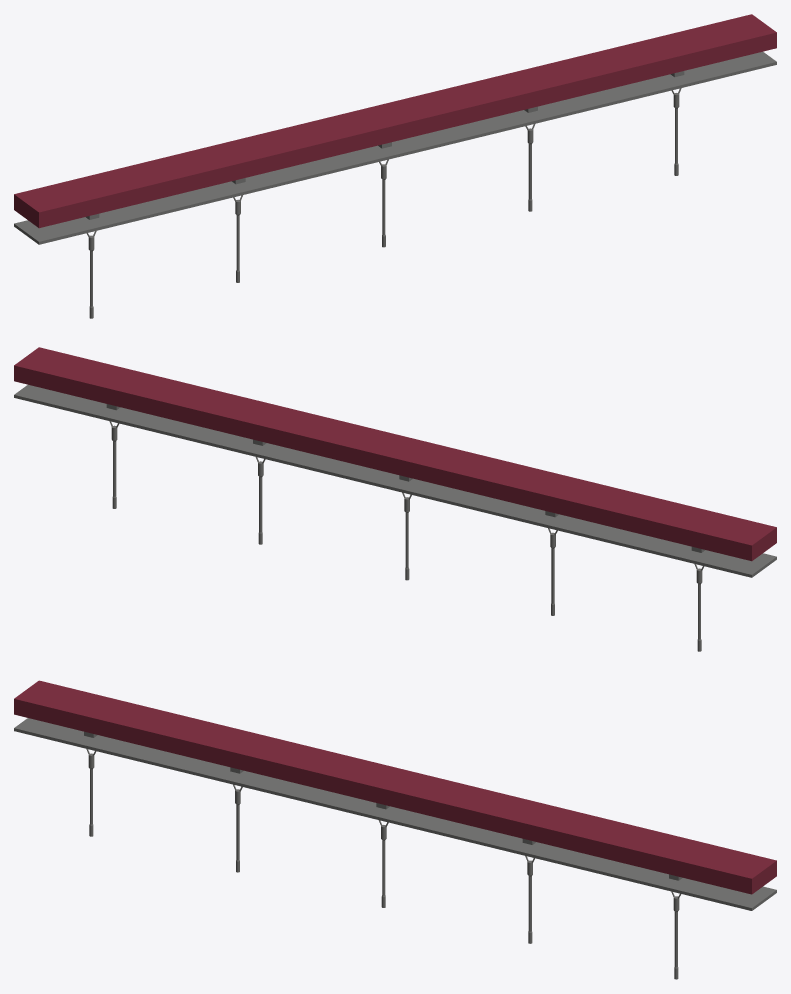
The model's file is 组装线_B1_机器13.fbx.
The picture shows the model from 3 angles, top to bottom: view 1: azimuth 30°, elevation 25°; view 2: azimuth 150°, elevation 25°; view 3: azimuth 330°, elevation 25°; orthographic projection.
Visible parts, largest first — view 1: Box001; view 2: Box001; view 3: Box001.
Boxes of the visible parts, left/top/right/bottom form: Box001: left=14, top=14, right=776, bottom=318; Box001: left=14, top=347, right=776, bottom=651; Box001: left=14, top=680, right=776, bottom=979.
Bounding box in the file's own units: 964 × 163 × 56.57.
